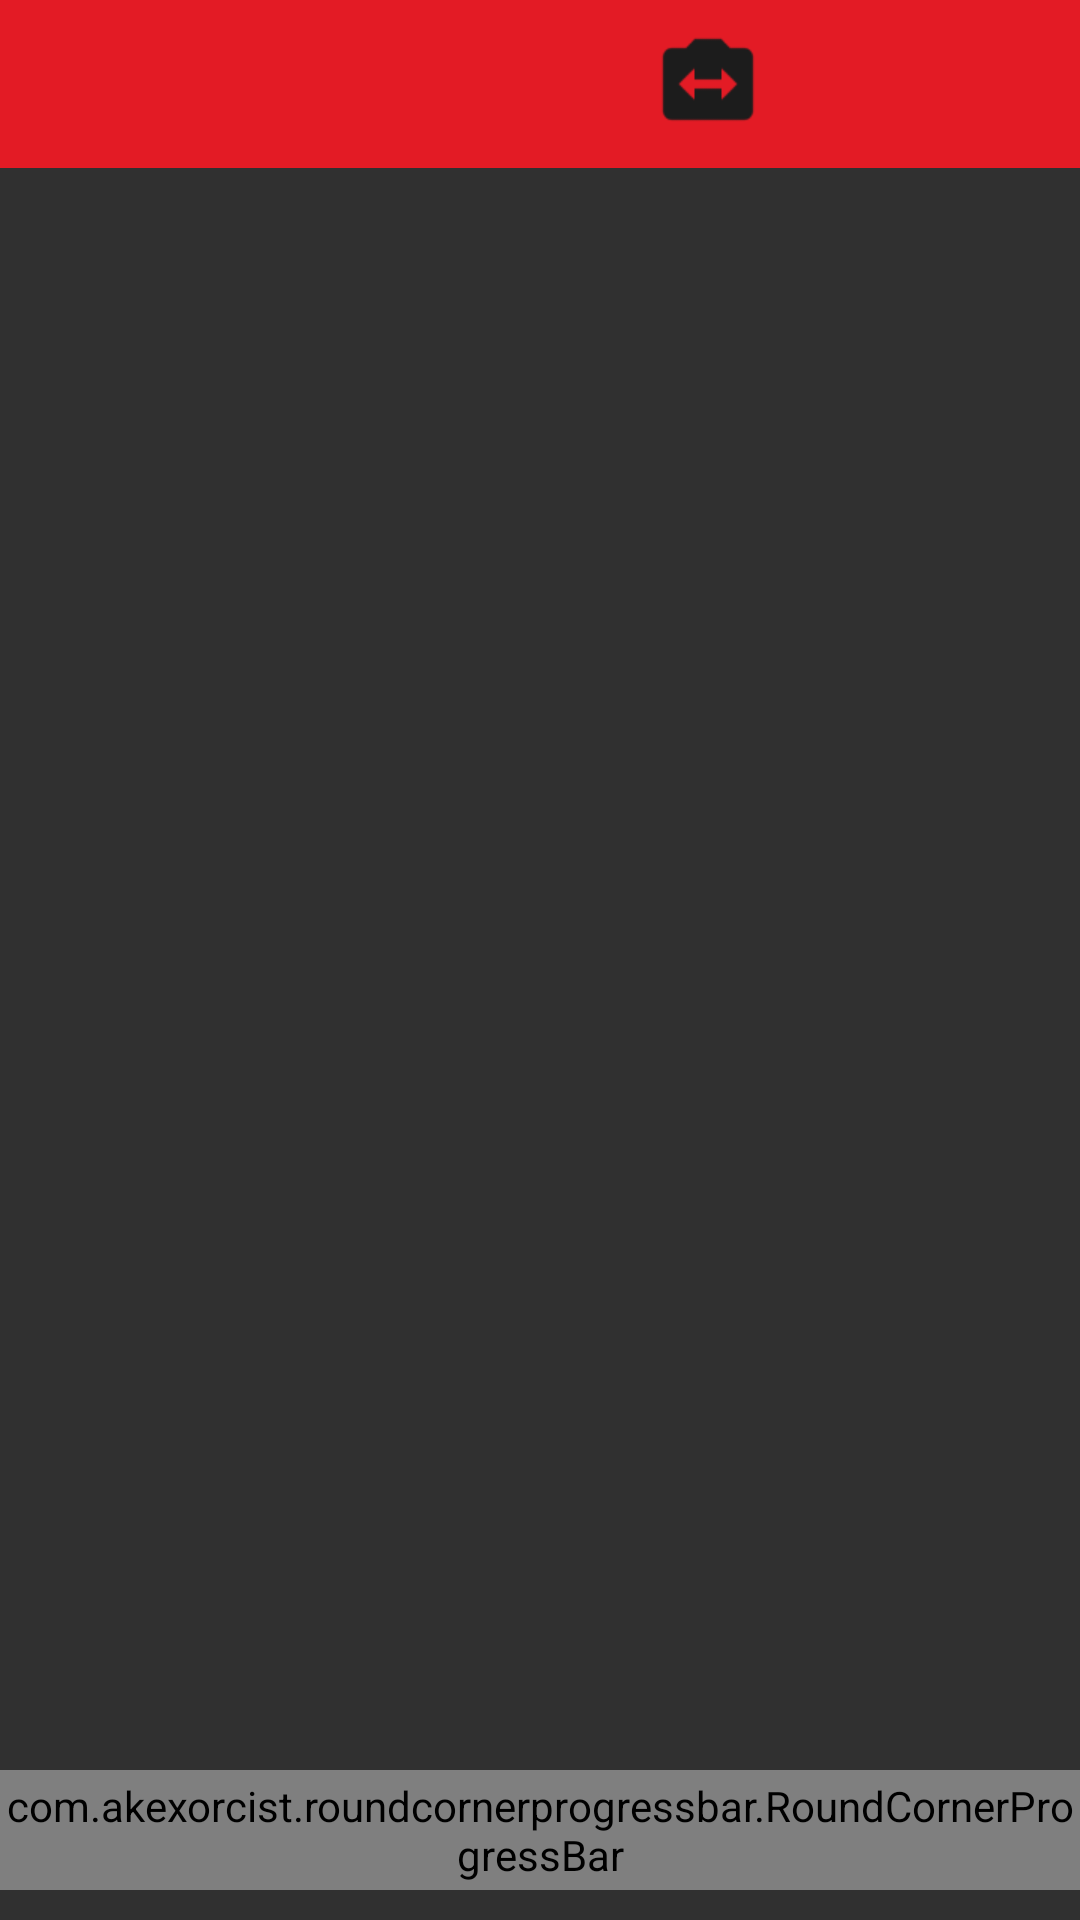

Locate icon controls on the screen. Image size 1080 x 1920, boxes as rect(x1, y1, x2, y2).
camera switch: rect(662, 38, 754, 121)
